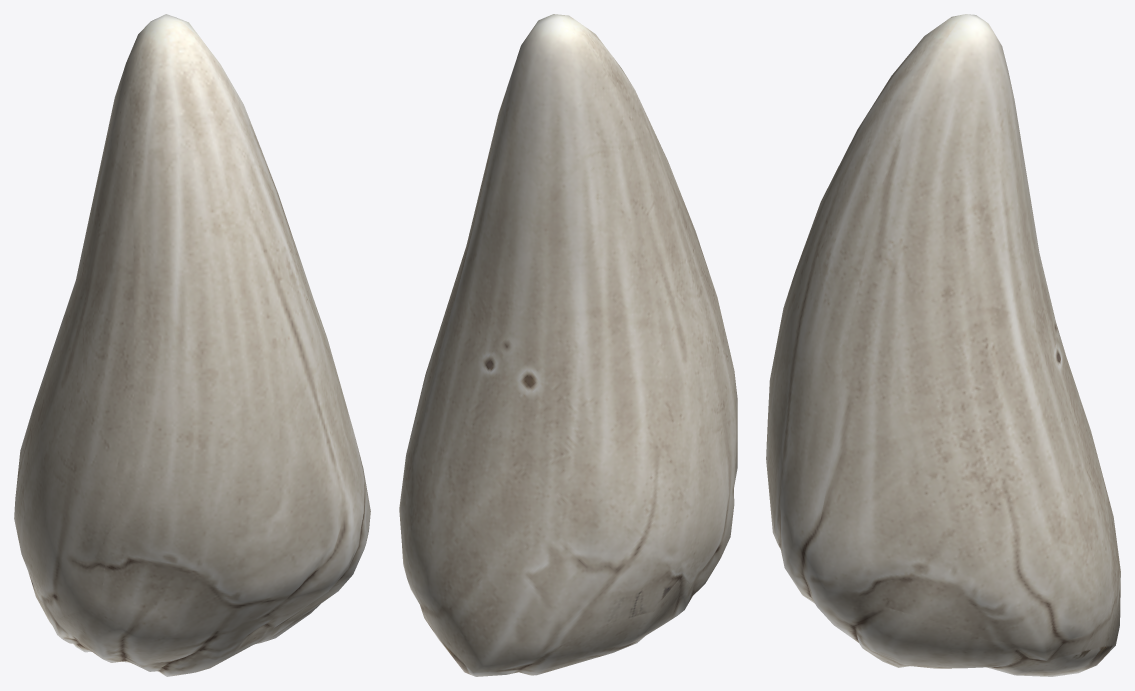
The model's file is SM_Fossil_6.fbx.
3 renders of one model, left to right at view 1: azimuth 30°, elevation 25°; view 2: azimuth 150°, elevation 25°; view 3: azimuth 270°, elevation 25°, orthographic. The views are drawn at different scales.
Visible parts, largest first — view 1: SM_Fossil_6; view 2: SM_Fossil_6; view 3: SM_Fossil_6.
Boxes of the visible parts, x1=… form: SM_Fossil_6: x1=14, y1=14, x2=370, y2=676; SM_Fossil_6: x1=399, y1=14, x2=737, y2=676; SM_Fossil_6: x1=766, y1=14, x2=1120, y2=676.
Bounding box in the file's own units: 0.2317 × 0.4836 × 0.2419.
